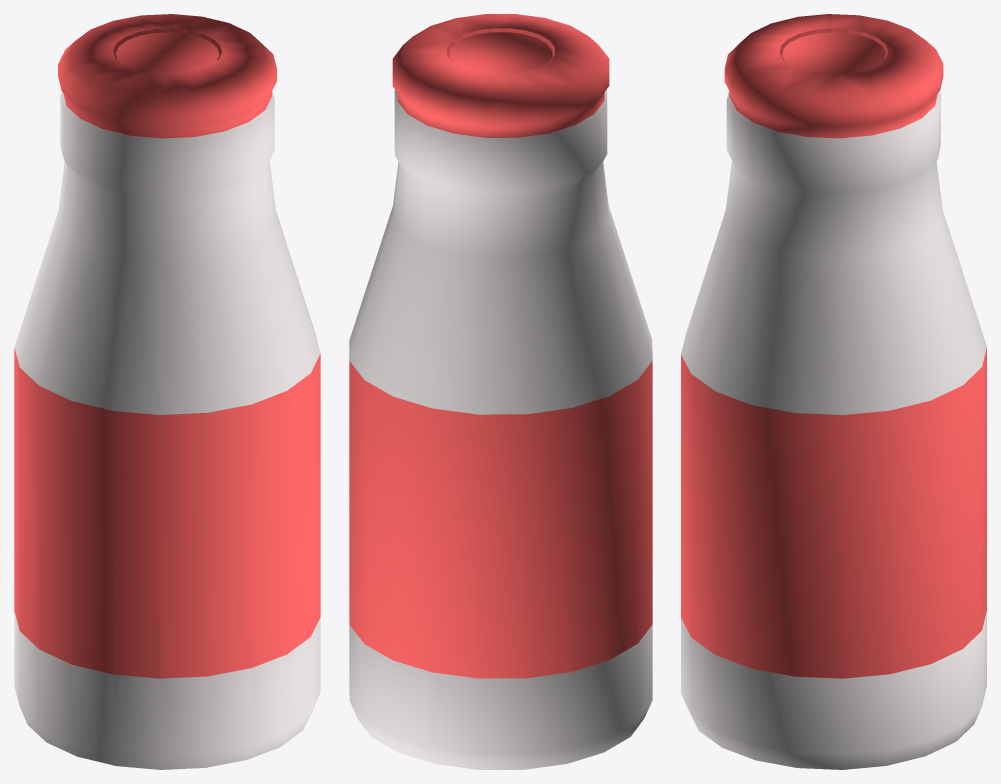
File: Bottled Yogurt 3.fbx
3 renders of one model, left to right at view 1: azimuth 30°, elevation 25°; view 2: azimuth 150°, elevation 25°; view 3: azimuth 270°, elevation 25°, orthographic.
Parts seen in each view (by area): view 1: Node 0; view 2: Node 0; view 3: Node 0.
Part boxes in pixels (x1,y1,x2,y2): Node 0: (14, 14, 320, 769); Node 0: (349, 14, 652, 769); Node 0: (681, 14, 986, 769).
Bounding box in the file's own units: 0.0684 × 0.1622 × 0.0684.
